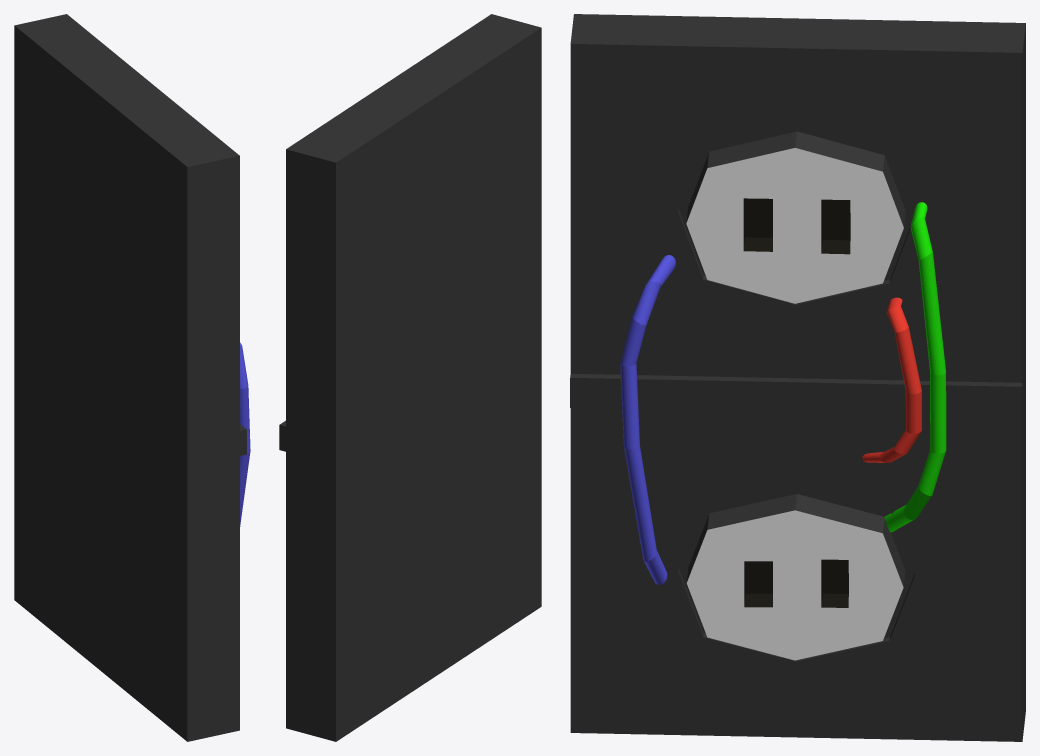
The model's file is outletbroken.fbx.
The picture shows the model from 3 angles, left to right: view 1: azimuth 30°, elevation 25°; view 2: azimuth 150°, elevation 25°; view 3: azimuth 270°, elevation 25°; orthographic projection. The views are drawn at different scales.
Parts seen in each view (by area): view 1: outletb; view 2: outletb; view 3: outletb.
Boxes of the visible parts, bbox=[...] form: outletb: bbox=[14, 14, 250, 741]; outletb: bbox=[279, 14, 541, 741]; outletb: bbox=[570, 14, 1025, 741].
Size of the model in its own units: 26.37 by 150 by 89.69.
